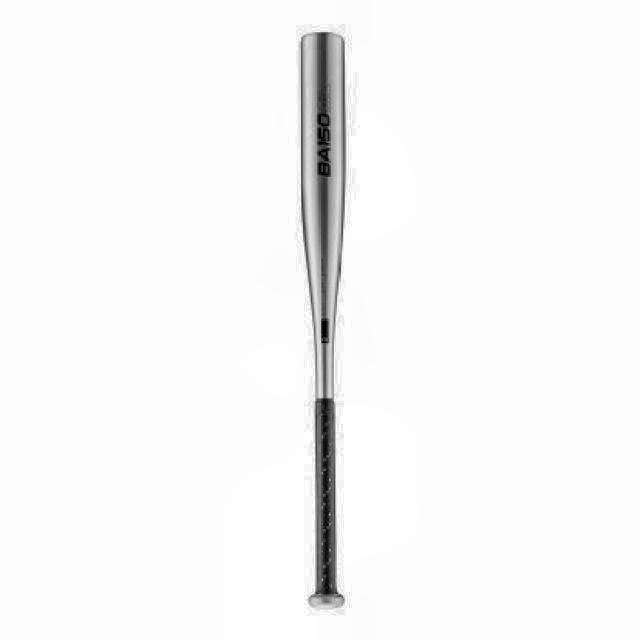tongkat pemukul: (296, 23, 357, 622)
